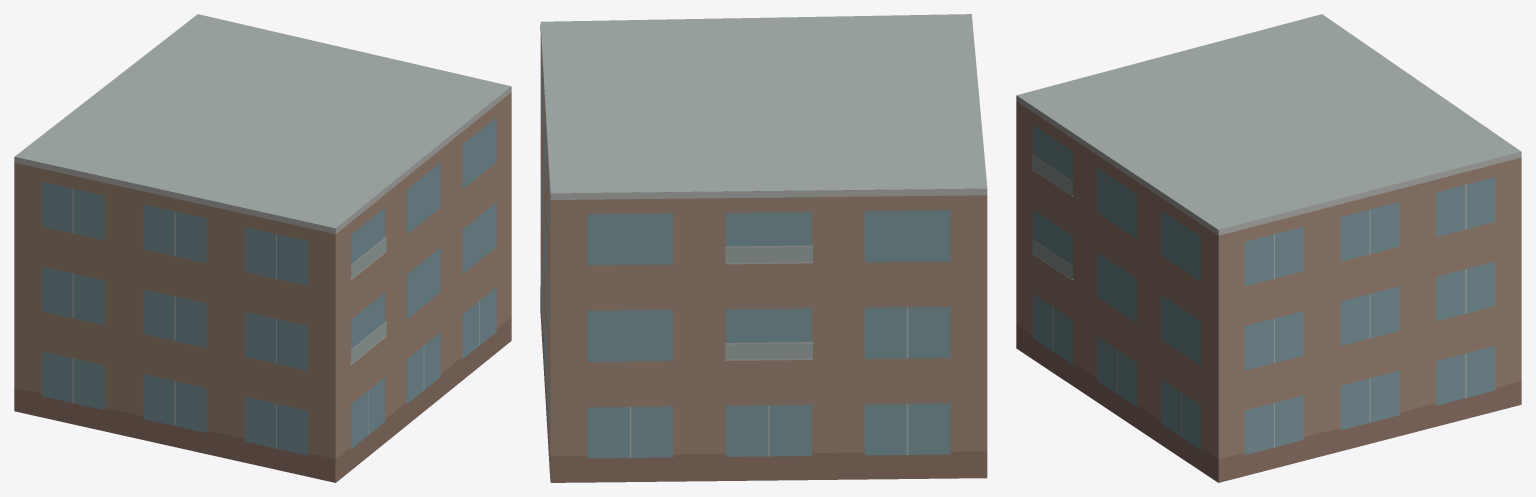
Rendered from survey-upis-32719676.glb.
3 views of the same model, side by side, from view 1: azimuth 30°, elevation 25°; view 2: azimuth 150°, elevation 25°; view 3: azimuth 270°, elevation 25° (orthographic). The views are drawn at different scales.
Parts seen in each view (by area): view 1: survey-upis-32719676.tmp; view 2: survey-upis-32719676.tmp; view 3: survey-upis-32719676.tmp.
Boxes of the visible parts, x1,y1,x2,y2 form: survey-upis-32719676.tmp: [14, 14, 511, 482]; survey-upis-32719676.tmp: [540, 14, 987, 482]; survey-upis-32719676.tmp: [1016, 14, 1521, 482].
Bounding box in the file's own units: 19.22 × 10.5 × 19.01.
